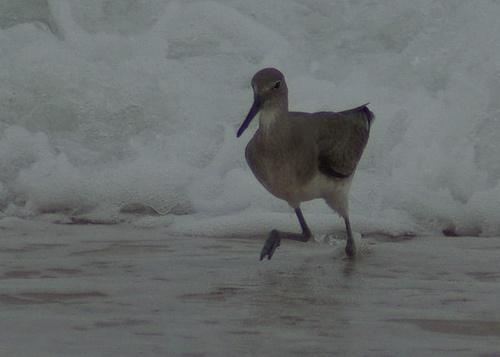bird: (236, 66, 376, 267)
